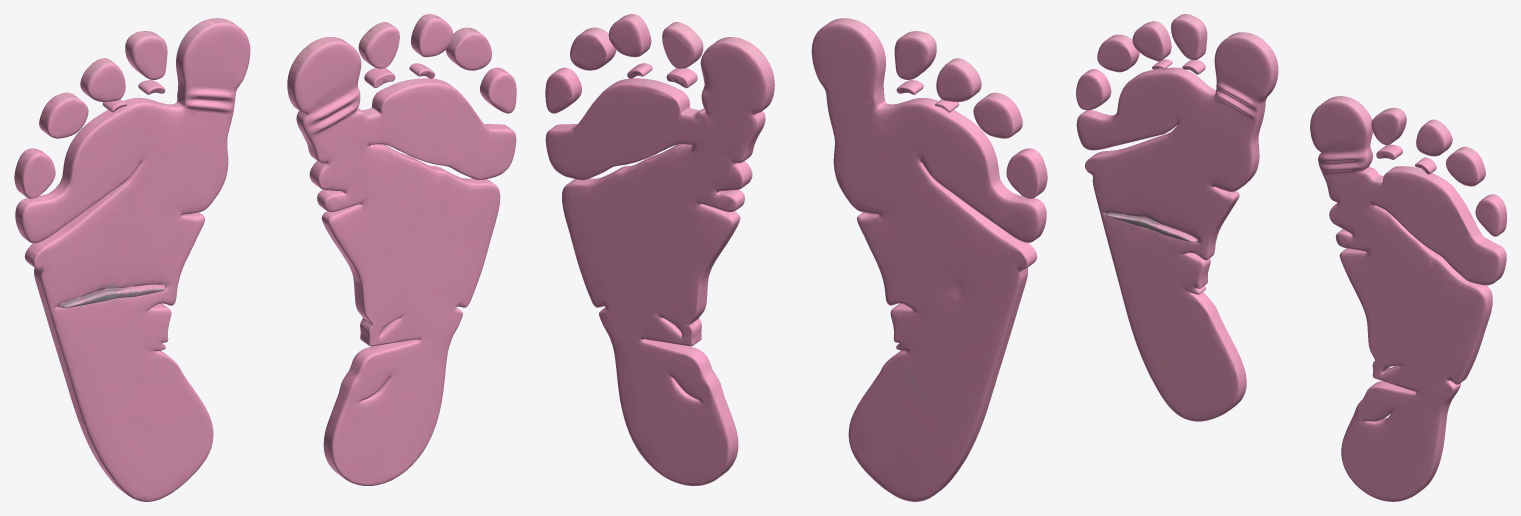
The picture shows the model from 3 angles, left to right: view 1: azimuth 30°, elevation 25°; view 2: azimuth 150°, elevation 25°; view 3: azimuth 330°, elevation 25°; orthographic projection. The views are drawn at different scales.
Size of the model in its own units: 1.9 by 1.85 by 0.092.
Materials: 1 (1 with a texture image).
